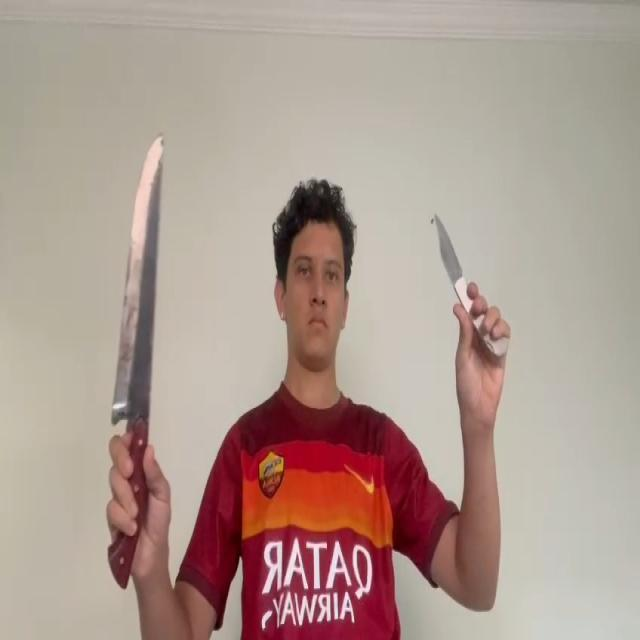knife: (111, 130, 167, 426), (433, 212, 462, 282)
